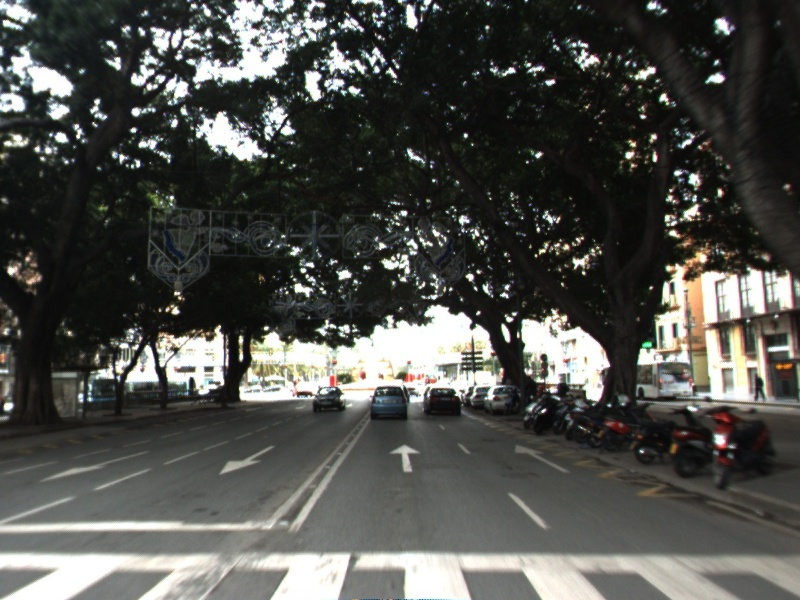STRAIGHT: (512, 442, 572, 475), (386, 442, 423, 474)
